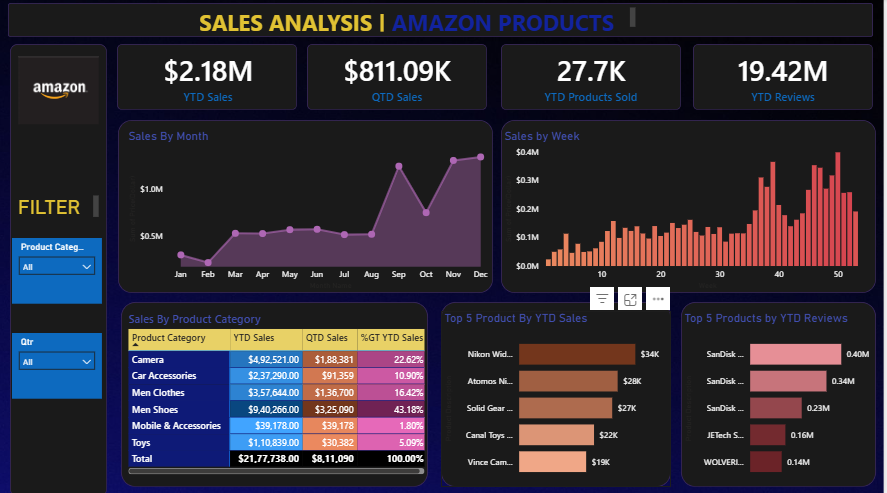

The page's visual inventory and layout, read from the dashboard file:
{"tool":"powerbi","page":{"name":"Page 1","canvas":[1280,720],"ordinal":0},"visuals":[{"type":"shape","box":[14.5,5.8,1250.6,49.2],"z":0},{"type":"textbox","box":[264.6,7.2,662.2,44.8],"z":1000},{"type":"shape","box":[17.3,65.1,140.2,654.9],"z":2000},{"type":"group","id":"g1","title":"Group 2","box":[172,65.1,1093,95.4],"z":3000},{"type":"shape","box":[172,65.1,260.2,95.4],"z":3000,"group":"g2"},{"type":"shape","box":[1004.8,65.1,260.2,95.4],"z":3000,"group":"g1"},{"type":"card","fields":{"Values":["Amazon_Data.YTD Sales"]},"box":[173.4,65.1,260.2,95.4],"z":4000,"group":"g2"},{"type":"card","fields":{"Values":["Amazon_Data.YTD Reviews"]},"box":[1004.8,65.1,260.2,95.4],"z":4000,"group":"g1"},{"type":"shape","box":[173.5,174.9,542.2,250.1],"z":4000},{"type":"group","id":"g2","title":"Group 1","box":[172,65.1,815.4,95.4],"z":5000,"group":"g1"},{"type":"shape","box":[446.7,65.1,260.2,95.4],"z":5000,"group":"g2"},{"type":"areaChart","title":"Sales By Month","fields":{"Category":["Date Table.Month Name"],"Y":["Sum(Amazon_Data.Price(Dollar))"]},"box":[183.6,188,534.9,237.1],"z":5000},{"type":"card","fields":{"Values":["Amazon_Data.QTD Sales"]},"box":[446.7,65.1,260.2,95.4],"z":6000,"group":"g2"},{"type":"shape","box":[727.2,174.9,542.2,250.1],"z":6000},{"type":"shape","box":[727.2,65.1,260.2,95.4],"z":7000,"group":"g2"},{"type":"columnChart","title":"Sales by Week","fields":{"Category":["Date Table.1 Week"],"Y":["Sum(Amazon_Data.Price(Dollar))"]},"box":[727.2,188,542.2,237.1],"z":7000},{"type":"shape","box":[177.8,438.1,443.9,267.5],"z":8000},{"type":"card","fields":{"Values":["Amazon_Data.YTD Products Sold"]},"box":[727.2,65.1,260.2,95.4],"z":8001,"group":"g2"},{"type":"shape","box":[640.5,438.1,332.5,267.5],"z":9000},{"type":"shape","box":[987.5,438.1,281.9,267.5],"z":10000},{"type":"pivotTable","title":"Sales By Product Category","fields":{"Rows":["Amazon_Data.Product Category"],"Values":["Amazon_Data.YTD Sales1","Amazon_Data.QTD Sales","Amazon_Data.YTD Sales"]},"box":[183.6,451.1,438.1,241.4],"z":11000},{"type":"clusteredBarChart","title":"Top 5 Product By YTD Sales","fields":{"Category":["Amazon_Data.Product Description"],"Y":["Amazon_Data.YTD Sales"]},"box":[640.5,451.1,332.5,254.5],"z":12000},{"type":"clusteredBarChart","title":"Top 5 Products by YTD Reviews","fields":{"Category":["Amazon_Data.Product Description"],"Y":["Amazon_Data.YTD Reviews"]},"box":[987.5,451.1,281.9,254.5],"z":13000},{"type":"slicer","fields":{"Values":["Amazon_Data.Product Category"]},"box":[20.2,345.5,130.1,95.4],"z":14000},{"type":"slicer","fields":{"Values":["Date Table.Qtr"]},"box":[20.2,482.9,130.1,95.4],"z":15000},{"type":"image","box":[24.6,65.1,125.8,133],"z":16000},{"type":"textbox","box":[24.6,279,125.8,41.9],"z":16001}]}

Visuals, with their boxes in screenshot pixels (x1, y1, x2, y2), scaled from the page's 1280x720 canvas onto the 887x493 screenshot:
shape: left=10, top=4, right=877, bottom=38
textbox: left=183, top=5, right=642, bottom=36
shape: left=12, top=45, right=109, bottom=492
"Group 2" group: left=119, top=45, right=877, bottom=110
shape: left=119, top=45, right=300, bottom=110
shape: left=696, top=45, right=877, bottom=110
card - Amazon_Data.YTD Sales: left=120, top=45, right=300, bottom=110
card - Amazon_Data.YTD Reviews: left=696, top=45, right=877, bottom=110
shape: left=120, top=120, right=496, bottom=291
"Group 1" group: left=119, top=45, right=684, bottom=110
shape: left=310, top=45, right=490, bottom=110
"Sales By Month" areaChart: left=127, top=129, right=498, bottom=291
card - Amazon_Data.QTD Sales: left=310, top=45, right=490, bottom=110
shape: left=504, top=120, right=880, bottom=291
shape: left=504, top=45, right=684, bottom=110
"Sales by Week" columnChart: left=504, top=129, right=880, bottom=291
shape: left=123, top=300, right=431, bottom=483
card - Amazon_Data.YTD Products Sold: left=504, top=45, right=684, bottom=110
shape: left=444, top=300, right=674, bottom=483
shape: left=684, top=300, right=880, bottom=483
"Sales By Product Category" pivotTable: left=127, top=309, right=431, bottom=474
"Top 5 Product By YTD Sales" clusteredBarChart: left=444, top=309, right=674, bottom=483
"Top 5 Products by YTD Reviews" clusteredBarChart: left=684, top=309, right=880, bottom=483
slicer - Amazon_Data.Product Category: left=14, top=237, right=104, bottom=302
slicer - Date Table.Qtr: left=14, top=331, right=104, bottom=396
image: left=17, top=45, right=104, bottom=136
textbox: left=17, top=191, right=104, bottom=220
